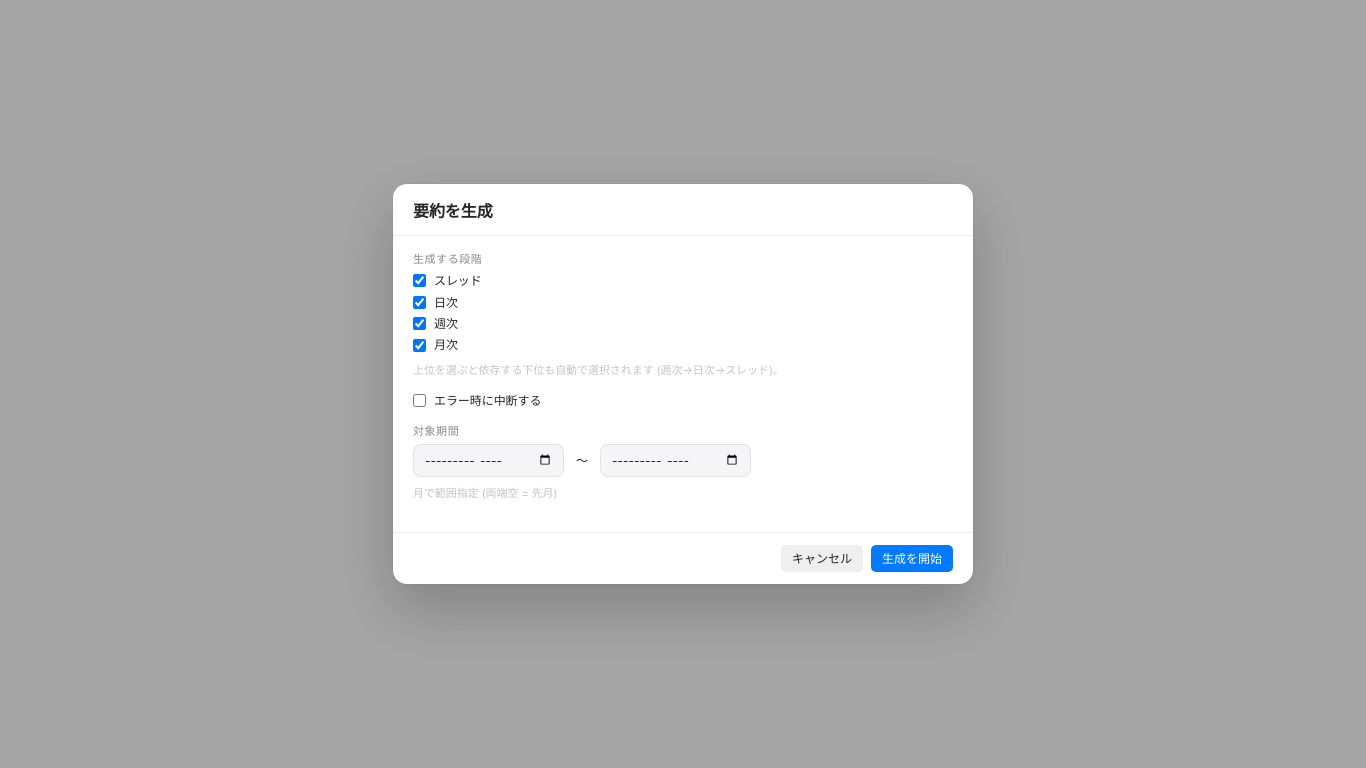
Test: SummaryGenerateDialog › turning off daily clears the coarser layers
The width and height of the screenshot is (1366, 768).
Step 1. Click the checkbox labelled "日次" → (420, 302), box [413,296,426,309]
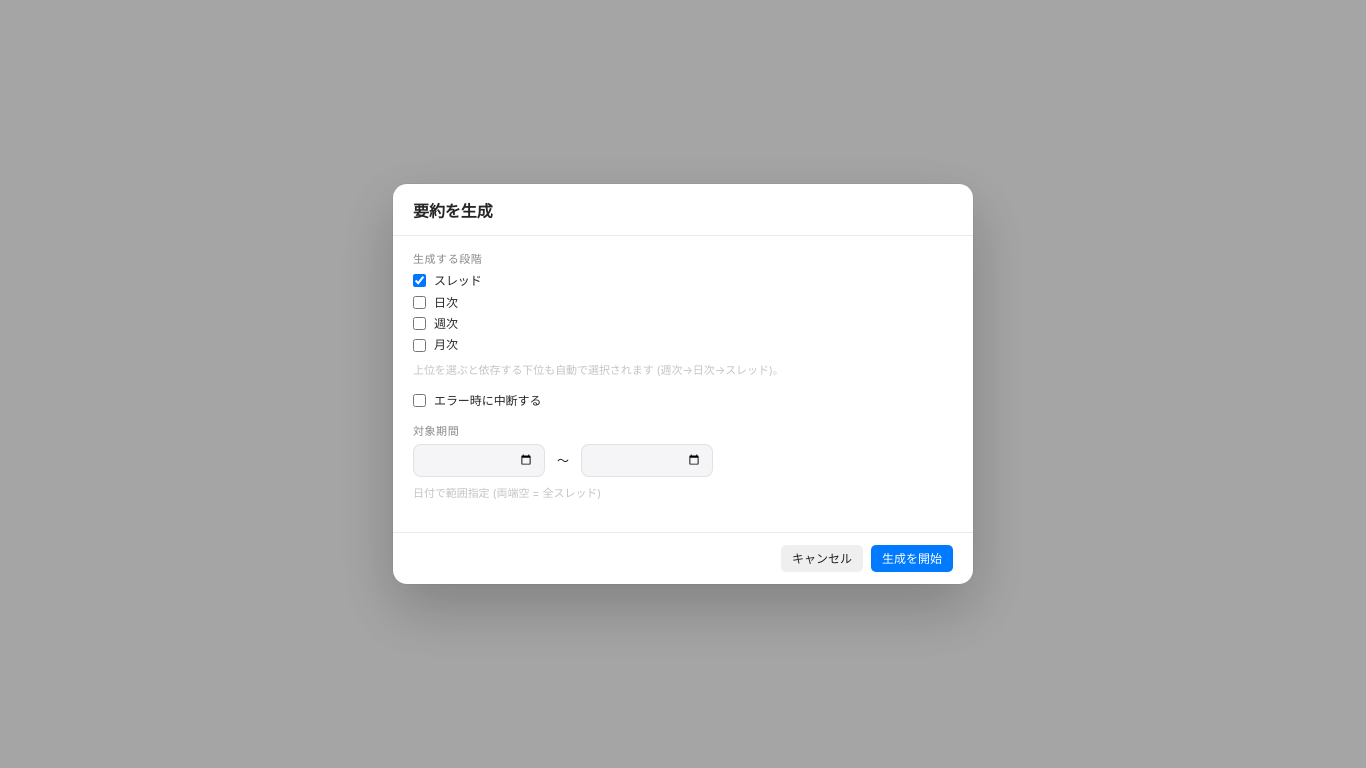
expect the checkbox labelled "日次" is not checked: met, box [413,296,426,309]
expect the checkbox labelled "週次" is not checked: met, box [413,317,426,330]
expect the checkbox labelled "月次" is not checked: met, box [413,339,426,352]
